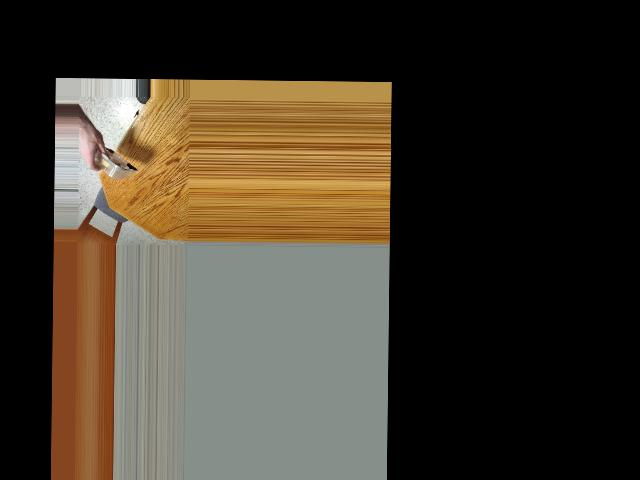cheese: (89, 132, 133, 185)
